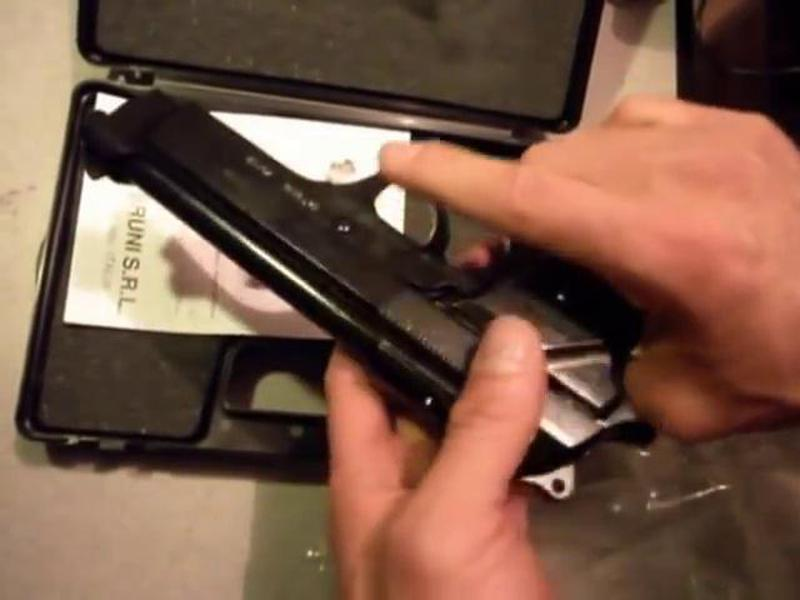Pistola: (70, 73, 683, 485)
